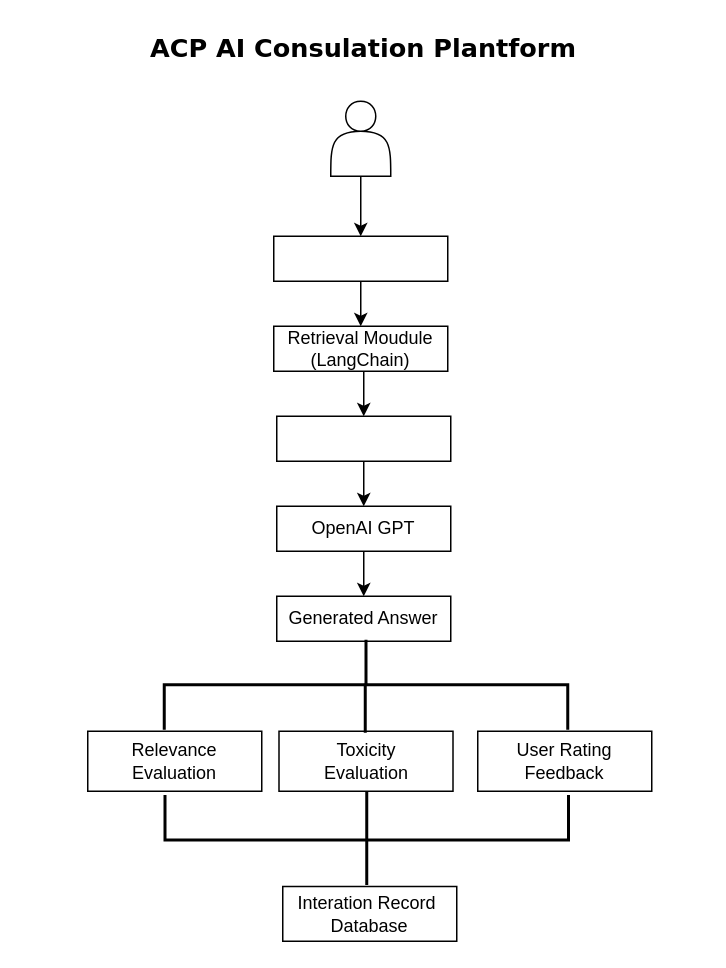
This 726x968 diagram has some shape labels left out. The box of each missing label's shape, as (x1, y1, x2, y2) in pixels:
ACP Knowledge Base(ChromaDB): (275, 415, 451, 461)
Flask Web Interface: (272, 235, 448, 281)
